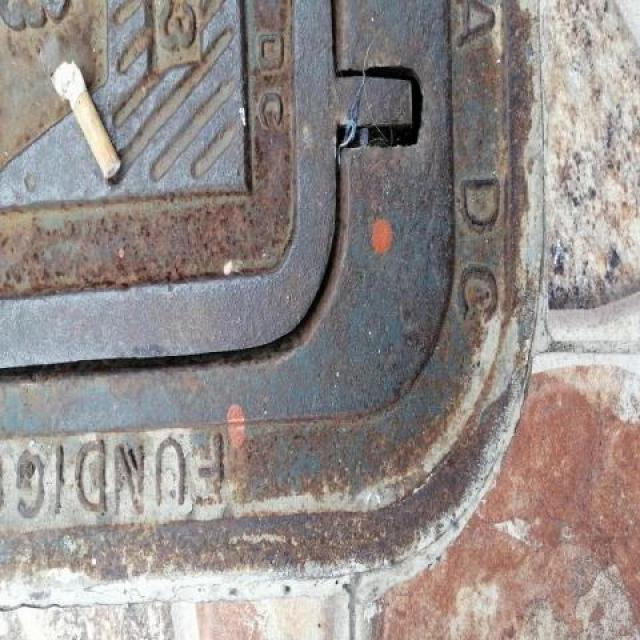non-organic waste: (47, 57, 124, 186)
